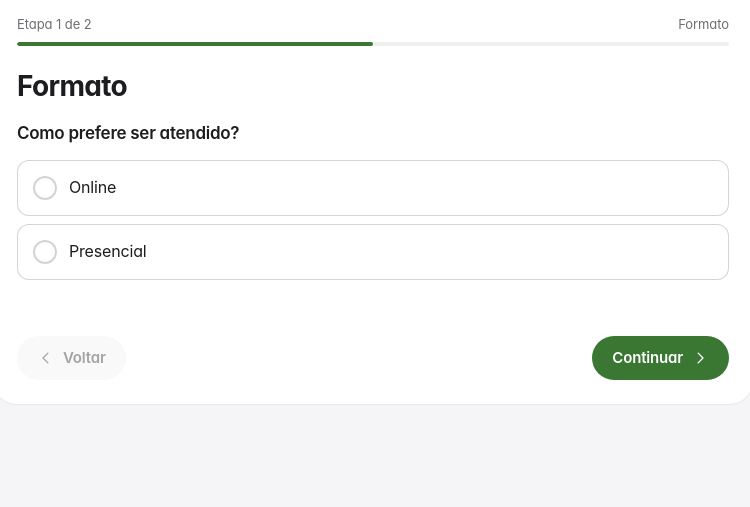
Test: QuestionnaireForm — triagem em etapas (US-04) › valida a etapa, preserva as respostas ao voltar e envia tudo em JSON
This screenshot has width=750, height=507.
Later steps or results of the test are not shown.
expect the text "Etapa 1 de 2" is shown: met, box 17,16 -> 92,34
Click the button "Continuar".
click(661, 358)  # box 592,336 -> 729,380
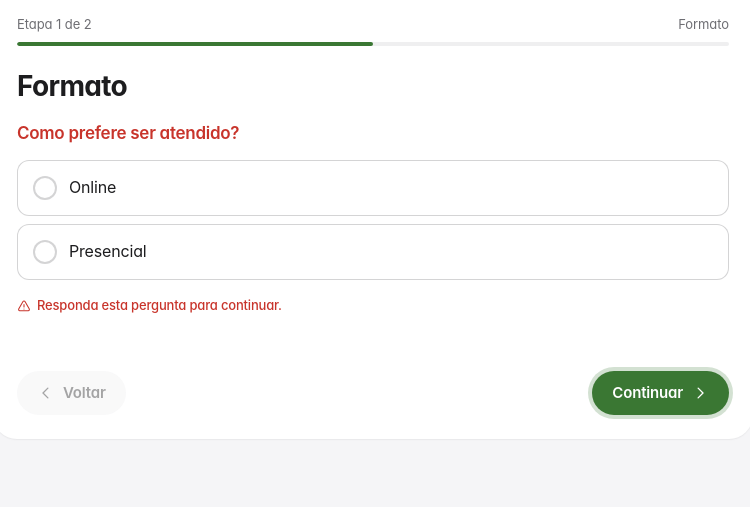
expect the message reads "Responda esta pergunta para continuar.": met, box 37,297 -> 282,313
Click the radio button labelled "Online".
click(93, 187)  # box 17,160 -> 729,216
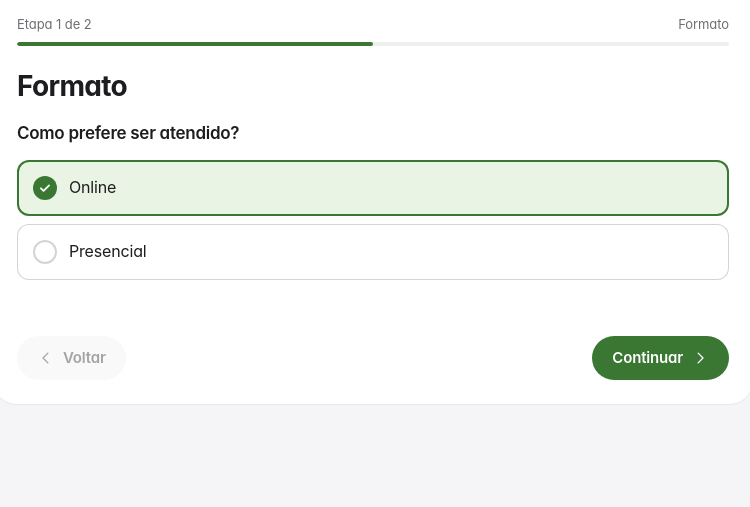
Click the button "Continuar".
click(661, 358)  # box 592,336 -> 729,380
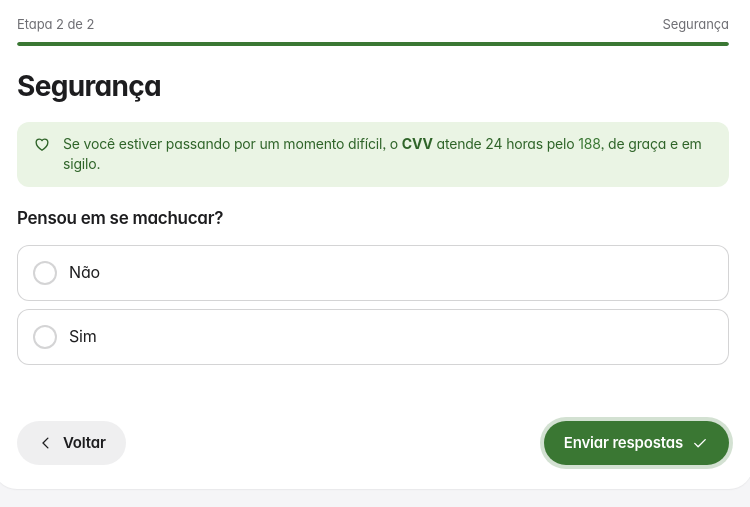
expect the text "Etapa 2 de 2" is shown: met, box 17,16 -> 94,34
expect the text "atende 24 horas pelo" is shown: met, box 433,135 -> 574,152
Click the button "Voltar".
click(71, 443)  # box 17,421 -> 126,465
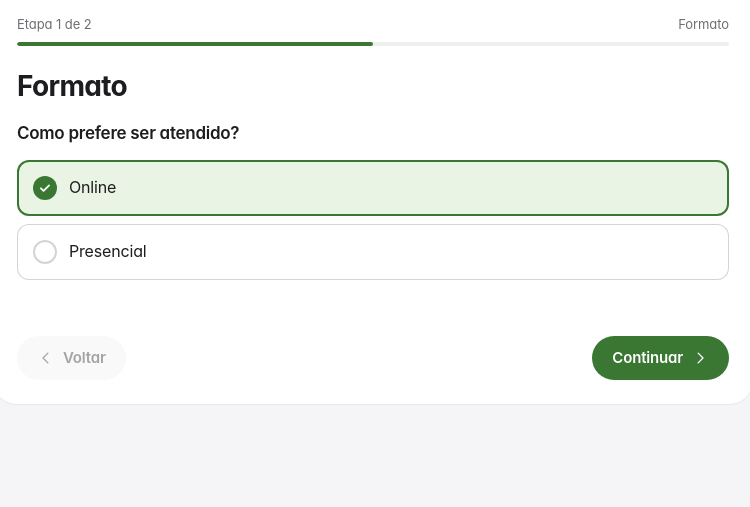
expect the radio button labelled "Online" is checked: met, box 17,160 -> 729,216
